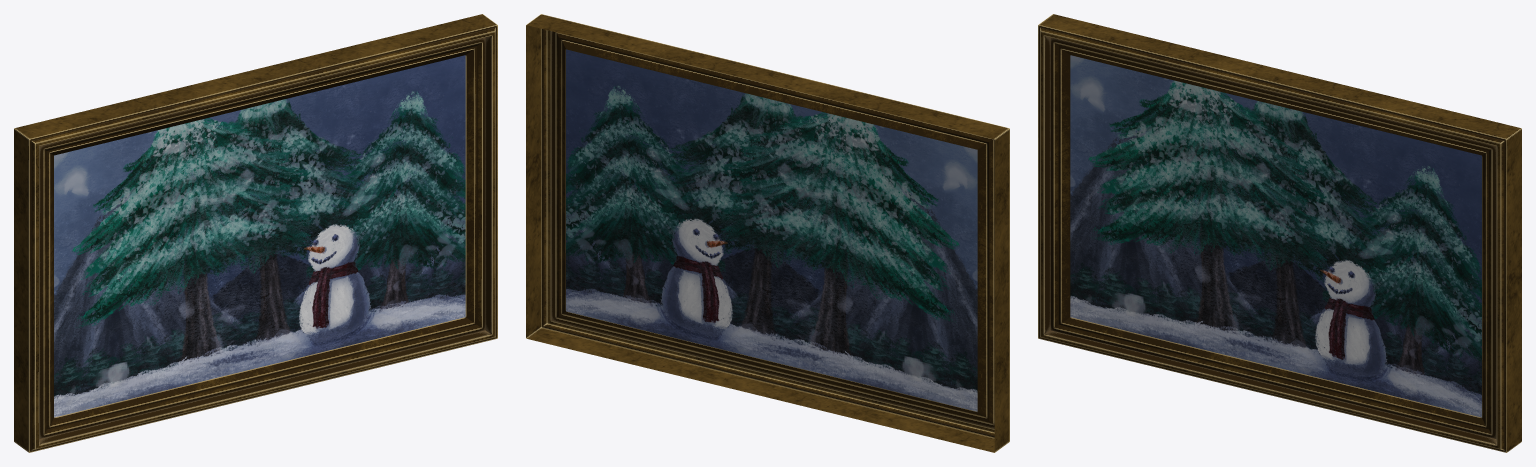
The model's file is painting-landscape-1.fbx.
The picture shows the model from 3 angles, left to right: view 1: azimuth 30°, elevation 25°; view 2: azimuth 150°, elevation 25°; view 3: azimuth 330°, elevation 25°; orthographic projection.
Parts seen in each view (by area): view 1: painting_Var2_20; view 2: painting_Var2_20; view 3: painting_Var2_20.
Part boxes in pixels (x1,y1,x2,y2): painting_Var2_20: [14, 14, 497, 452]; painting_Var2_20: [526, 14, 1009, 452]; painting_Var2_20: [1038, 14, 1521, 452].
Bounding box in the file's own units: 92.39 × 59.07 × 5.86.
Materials: 2 (2 with a texture image).
